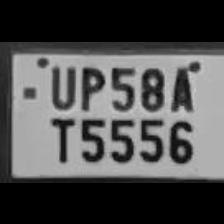5: (104, 60, 136, 110), (74, 114, 106, 162), (135, 113, 164, 162), (106, 114, 134, 160)
6: (164, 116, 196, 164)
8: (136, 60, 167, 110)
A: (165, 61, 197, 112)
P: (74, 60, 106, 110)
T: (43, 112, 75, 162)
U: (45, 60, 77, 106)
